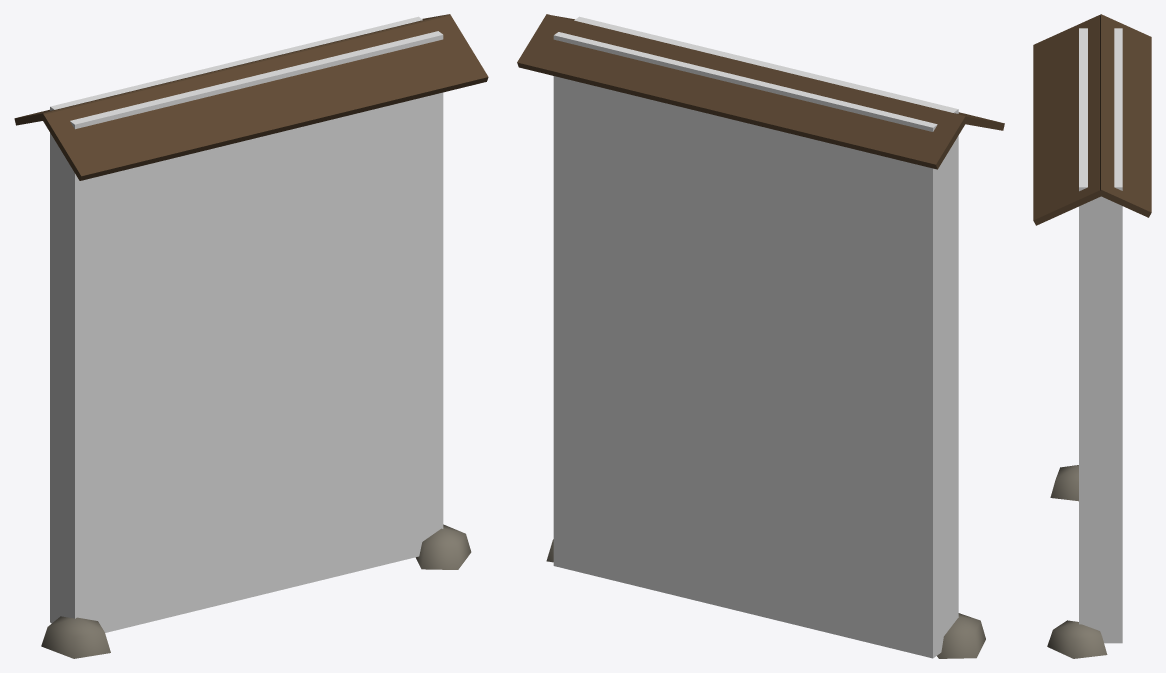
The model's file is notice_board.glb.
The picture shows the model from 3 angles, left to right: view 1: azimuth 30°, elevation 25°; view 2: azimuth 150°, elevation 25°; view 3: azimuth 270°, elevation 25°; orthographic projection. The views are drawn at different scales.
Parts seen in each view (by area): view 1: COL_board, notice_board; view 2: COL_board, notice_board; view 3: COL_board, notice_board.
Boxes of the visible parts, x1,y1,x2,y2 form: COL_board: (50, 16, 443, 632); notice_board: (14, 14, 488, 658); COL_board: (553, 16, 958, 658); notice_board: (517, 14, 1004, 658); COL_board: (1079, 28, 1122, 643); notice_board: (1033, 14, 1151, 658).
Bounding box in the file's own units: 1.96 × 2.36 × 0.5417.
